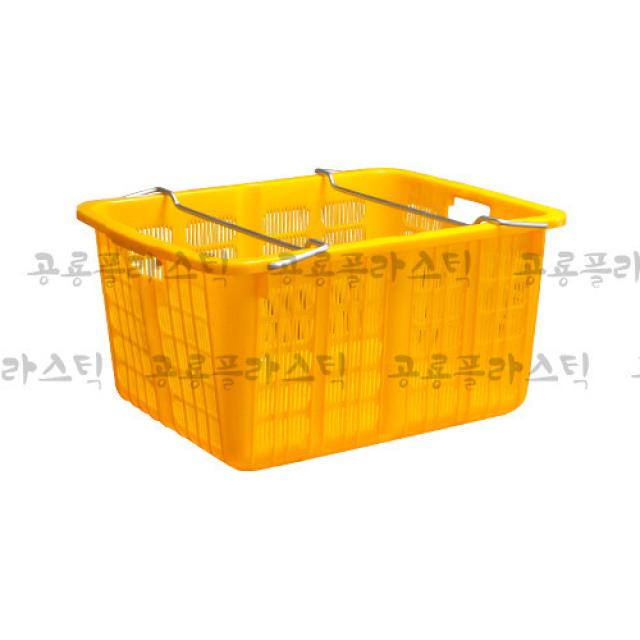basket: (76, 104, 606, 496)
